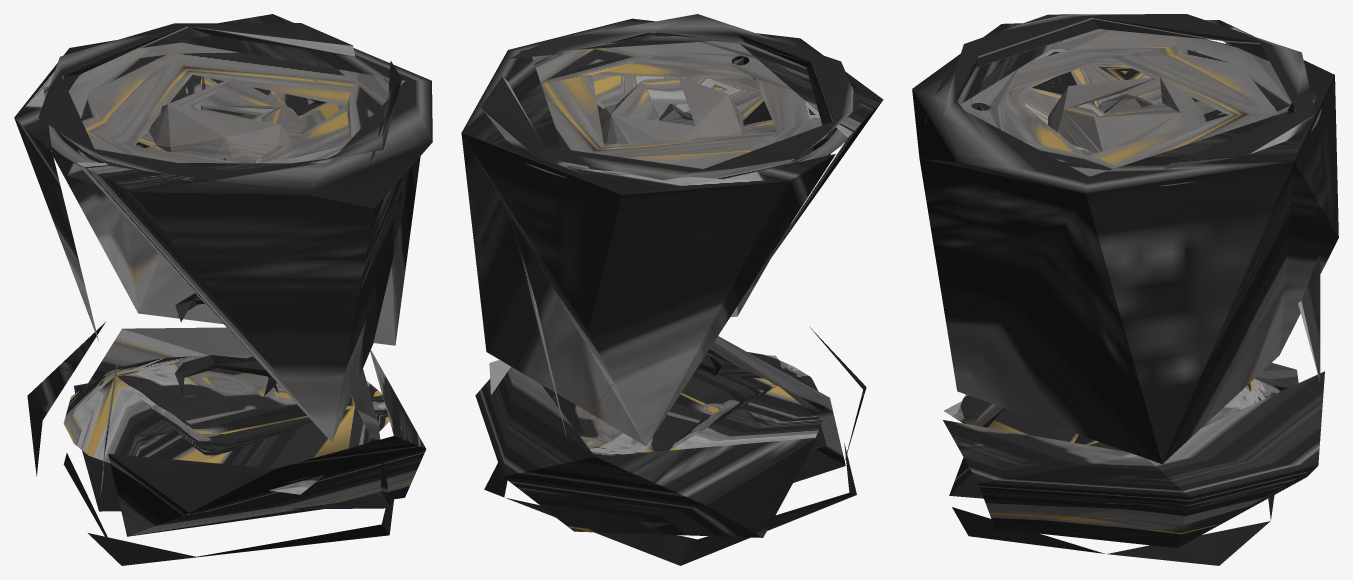
File: engineComponent_oil_filter_c01.glb
3 renders of one model, left to right at view 1: azimuth 30°, elevation 25°; view 2: azimuth 150°, elevation 25°; view 3: azimuth 270°, elevation 25°, orthographic. The views are drawn at different scales.
Parts seen in each view (by area): view 1: geometry_0; view 2: geometry_0; view 3: geometry_0.
Boxes of the visible parts, x1,y1,x2,y2 form: geometry_0: [14, 14, 432, 565]; geometry_0: [461, 14, 883, 565]; geometry_0: [912, 14, 1338, 565].
Bounding box in the file's own units: 0.3894 × 0.42 × 0.3992.
Materials: 1 (1 with a texture image).
